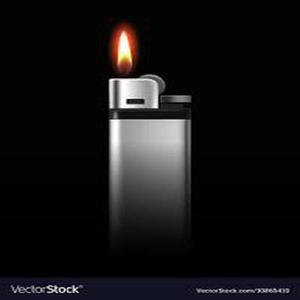fire: (112, 20, 138, 73)
